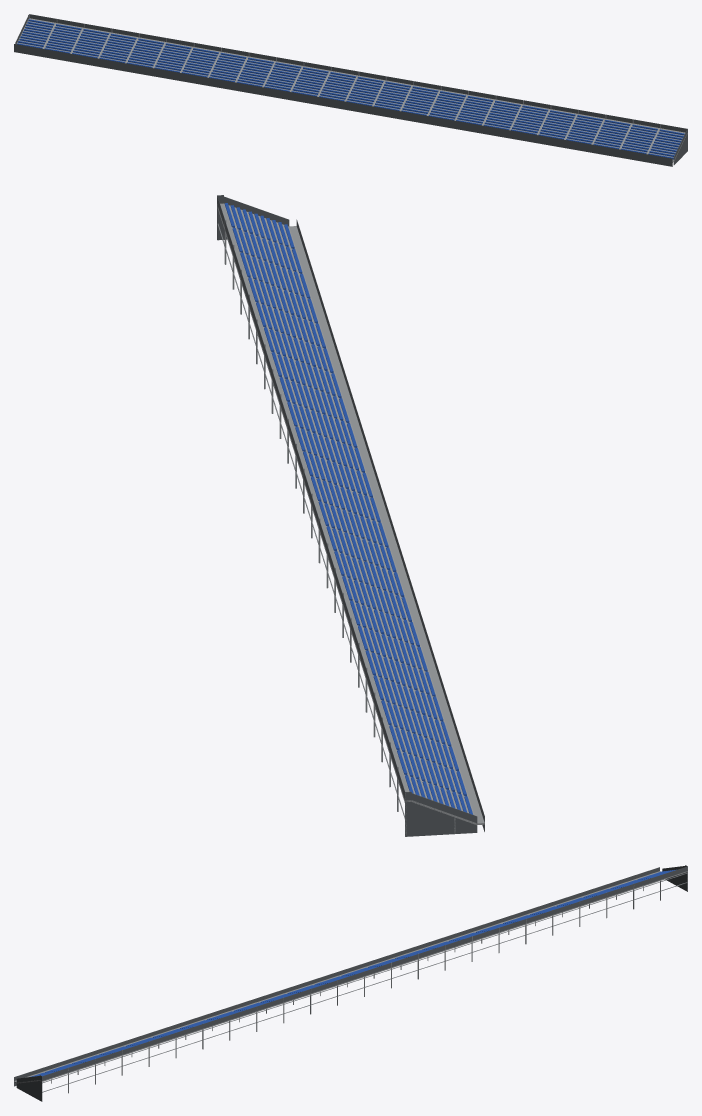
The model's file is spa_stand_fanzone.glb.
The picture shows the model from 3 angles, top to bottom: view 1: azimuth 30°, elevation 25°; view 2: azimuth 150°, elevation 25°; view 3: azimuth 270°, elevation 25°; orthographic projection. The views are drawn at different scales.
Visible parts, largest first — view 1: spa-fanzone; view 2: spa-fanzone; view 3: spa-fanzone.
Boxes of the visible parts, <box> form: spa-fanzone: <box>14,14,687,166</box>; spa-fanzone: <box>217,195,484,836</box>; spa-fanzone: <box>14,865,687,1101</box>.
Bounding box in the file's own units: 124 × 6.56 × 157.
